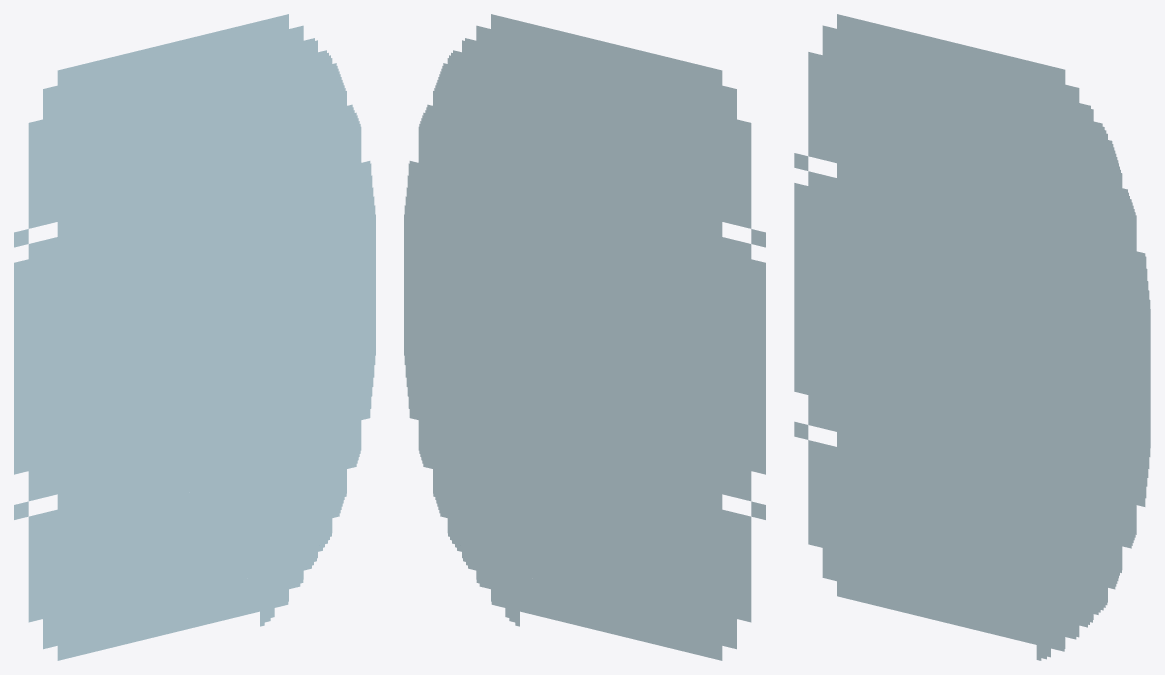
File: wp_water_169.obj
3 views of the same model, side by side, from view 1: azimuth 30°, elevation 25°; view 2: azimuth 150°, elevation 25°; view 3: azimuth 330°, elevation 25° (orthographic).
Bounding box in the file's own units: 0.366 × 0.5856 × 0.
1 material, 1 textured.
